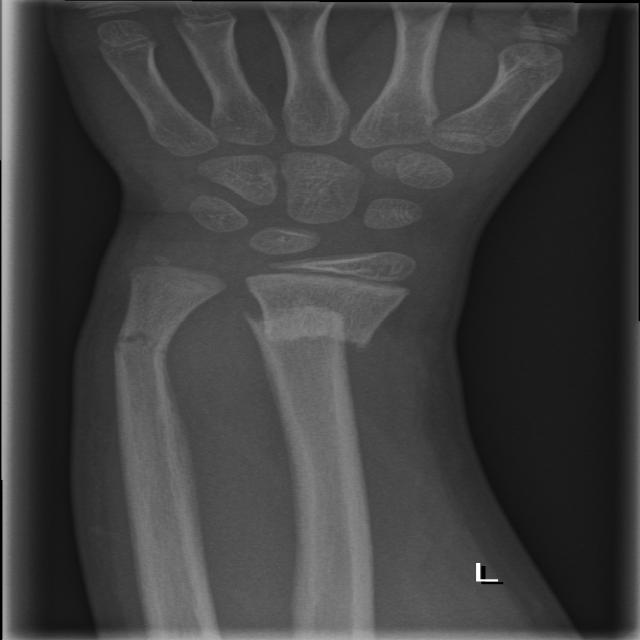radius fracture: (238, 287, 439, 450)
ulna fracture: (85, 291, 228, 424)
